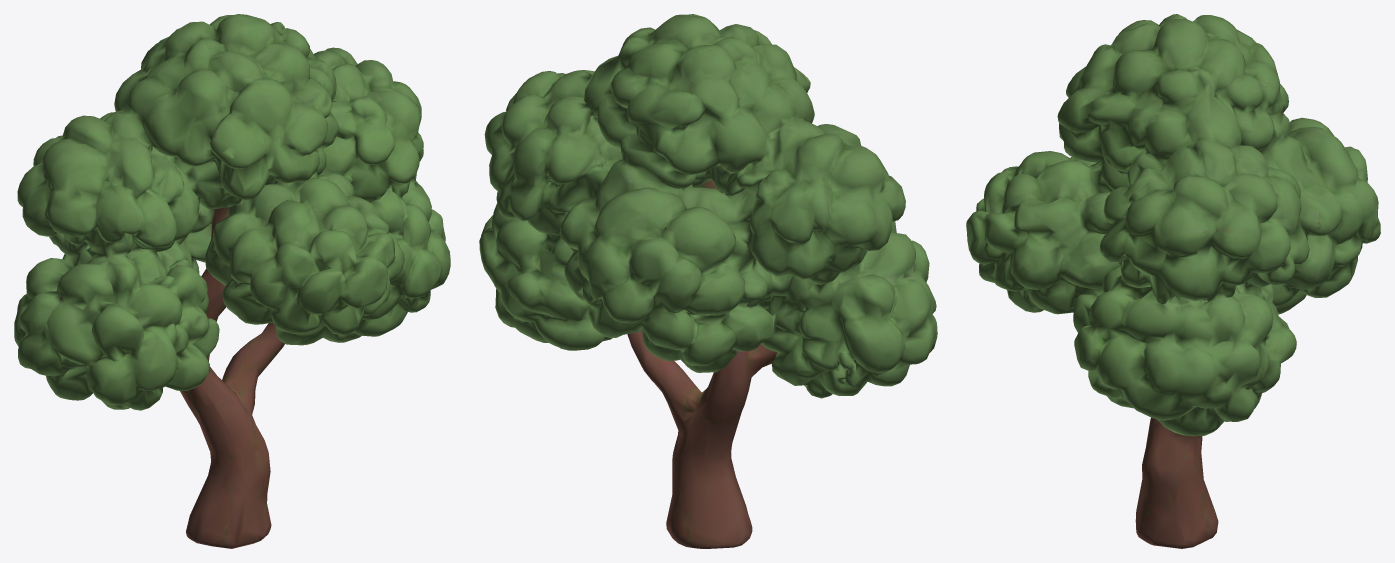
Rendered from oak-4.glb.
The picture shows the model from 3 angles, left to right: view 1: azimuth 30°, elevation 25°; view 2: azimuth 150°, elevation 25°; view 3: azimuth 270°, elevation 25°; orthographic projection.
Bounding box in the file's own units: 1.67 × 1.9 × 1.38.
Materials: 1 (1 with a texture image).
